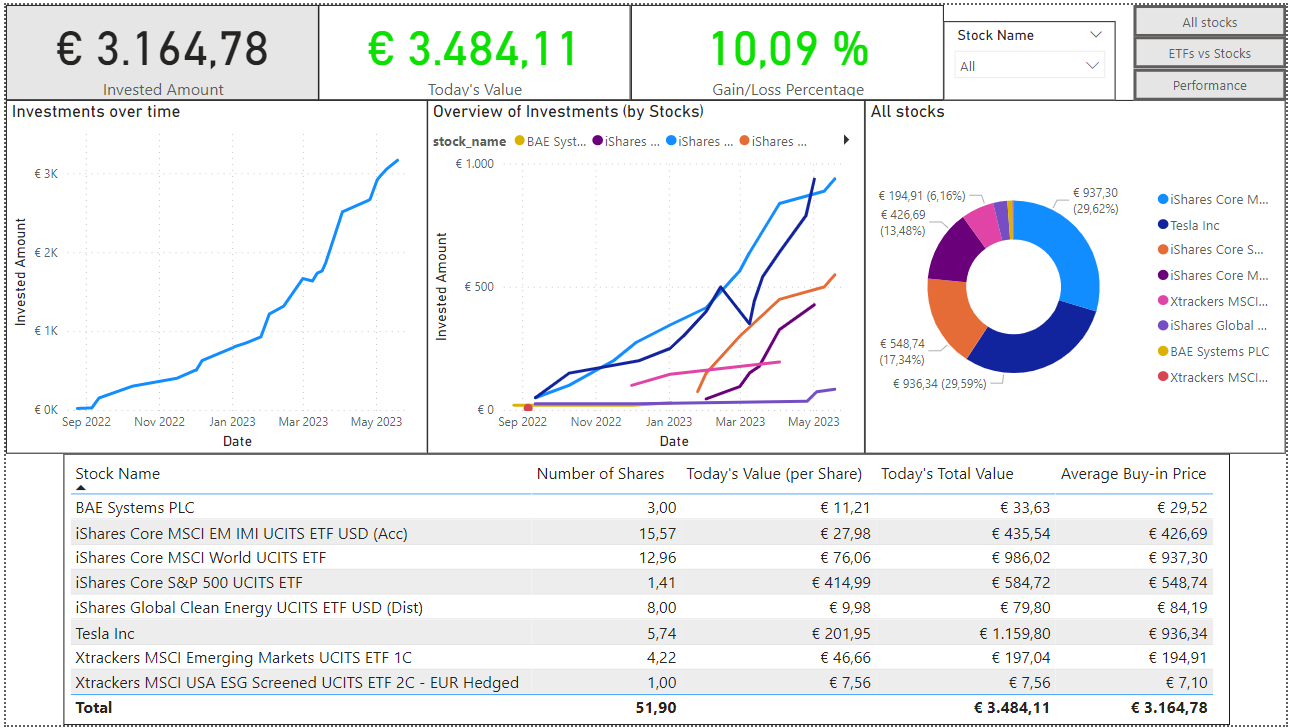

Layout of this report page (visuals, bound fields, positions):
{"tool":"powerbi","page":{"name":"Overview","canvas":[1280,720],"ordinal":0},"visuals":[{"type":"card","title":"Card: Gain/Loss Percentage","fields":{"Values":["investments.Capital Gain/Loss"]},"box":[624.7,0,312.9,95.3],"z":0},{"type":"card","title":"Card: Today''s Value","fields":{"Values":["dimStockDetails.LATEST VALUE"]},"box":[312.9,0,311.7,95.3],"z":1000},{"type":"card","title":"Card: Invested Amount","fields":{"Values":["investments.TOTAL_BUY"]},"box":[0,0,312.9,95.3],"z":2000},{"type":"actionButton","title":"Button: All stocks","box":[1127.1,0,152.8,31.8],"z":3000},{"type":"actionButton","title":"Button: ETFs vs Stocks","box":[1127.1,31.8,152.8,31.8],"z":4000},{"type":"lineChart","title":"Investments over time","fields":{"Category":["Calendar.Date Hierarchy.Date"],"Y":["investments.RUNNING_TOTAL"]},"box":[0,95.3,421.7,353.3],"z":5000},{"type":"lineChart","title":"Overview of Investments (by Stocks)","fields":{"Category":["Calendar.Date Hierarchy.Date"],"Y":["investments.Running Total by stock"],"Series":["dimStockDetails.stock_name"]},"box":[421.7,95.3,437.6,353.3],"z":6000},{"type":"tableEx","title":"Table: All Stocks","fields":{"Values":["dimStockDetails.stock_name","investments.NUMBER OF SHARES","dimStockDetails.Today's Adjusted Close","dimStockDetails.Latest value","investments.TOTAL_BUY"]},"box":[57.5,448.8,1166.2,271.2],"z":8000},{"type":"donutChart","title":"All stocks","fields":{"Y":["investments.TOTAL_BUY"],"Category":["dimStockDetails.stock_name"]},"box":[859.4,95.3,420.5,353.3],"z":9000},{"type":"slicer","title":"Slicer: All Stocks","fields":{"Values":["dimStockDetails.stock_name"]},"box":[937.6,15.9,172.4,79.5],"z":11000},{"type":"actionButton","box":[1127.1,63.6,152.8,31.8],"z":14000}]}

Visuals, with their boxes in screenshot pixels (x1, y1, x2, y2), scaled from the page's 1280x720 canvas onto the 1290x728 screenshot:
"Card: Gain/Loss Percentage" card: <bbox>630, 0, 945, 96</bbox>
"Card: Today''s Value" card: <bbox>315, 0, 629, 96</bbox>
"Card: Invested Amount" card: <bbox>0, 0, 315, 96</bbox>
"Button: All stocks" actionButton: <bbox>1136, 0, 1289, 32</bbox>
"Button: ETFs vs Stocks" actionButton: <bbox>1136, 32, 1289, 64</bbox>
"Investments over time" lineChart: <bbox>0, 96, 425, 454</bbox>
"Overview of Investments (by Stocks)" lineChart: <bbox>425, 96, 866, 454</bbox>
"Table: All Stocks" tableEx: <bbox>58, 454, 1233, 727</bbox>
"All stocks" donutChart: <bbox>866, 96, 1289, 454</bbox>
"Slicer: All Stocks" slicer: <bbox>945, 16, 1119, 96</bbox>
actionButton: <bbox>1136, 64, 1289, 96</bbox>
